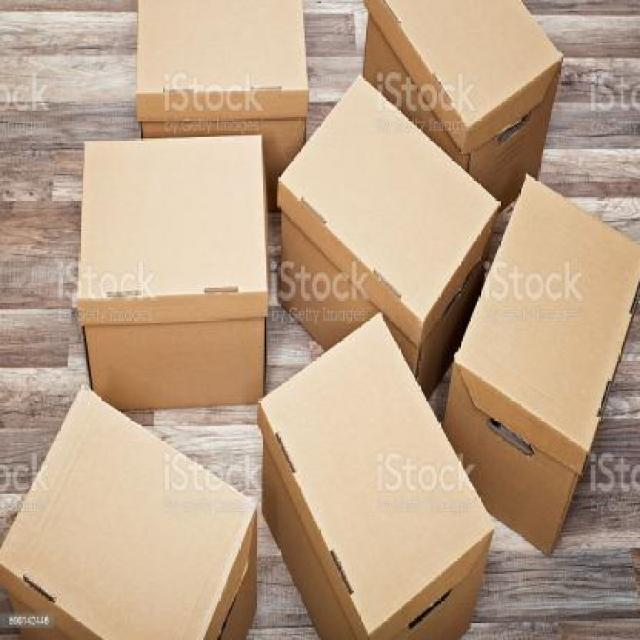box: (440, 172, 640, 555), (259, 313, 493, 640), (278, 77, 494, 397), (0, 383, 257, 640), (77, 137, 265, 409), (360, 0, 563, 214), (126, 0, 310, 198)
